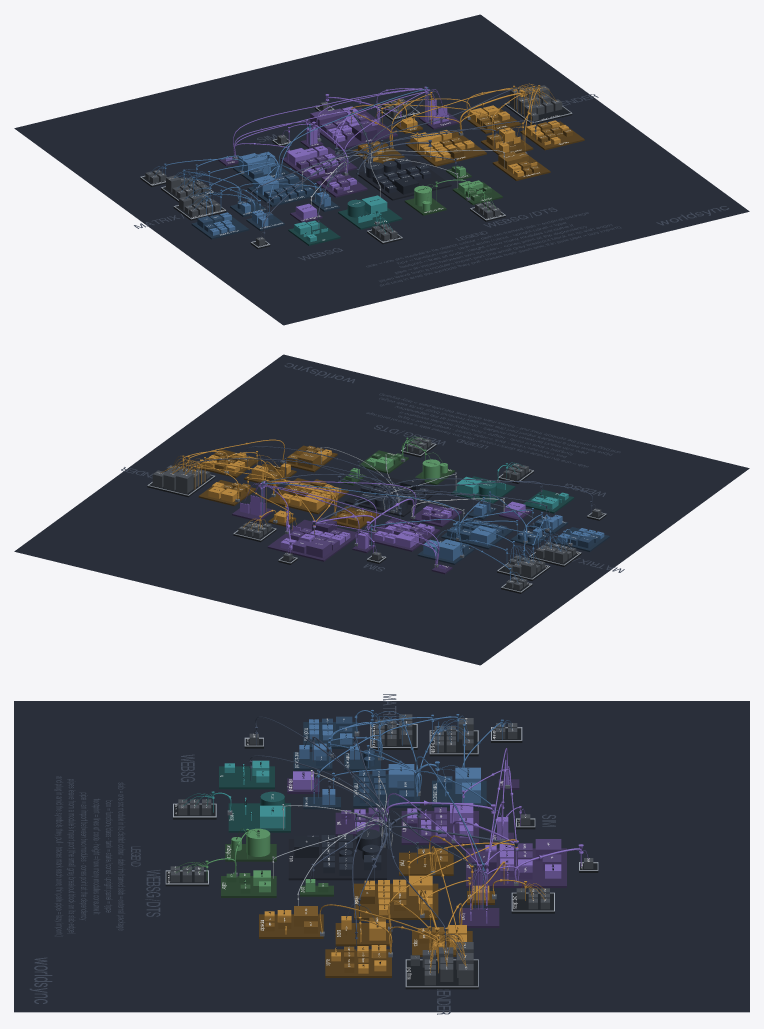
Rendered from arch.glb.
The picture shows the model from 3 angles, top to bottom: view 1: azimuth 30°, elevation 25°; view 2: azimuth 150°, elevation 25°; view 3: azimuth 270°, elevation 25°; orthographic projection. The views are drawn at different scales.
Parts seen in each view (by area): view 1: floor, world, mod_main_slab, mod_sim_slab, mod_render_slab, mod_websg_slab, mod_session_slab; view 2: floor, world, mod_sim_slab, mod_main_slab, mod_render_slab; view 3: floor, world, mod_main_slab, mod_sim_slab, mod_render_slab, mod_session_slab, mod_websg_slab, mod_audio_slab, dep_three_slab, mod_ui_slab, mod_scene_slab, mod_input_slab (+12 smaller).
Boxes of the visible parts, bbox=[...] form: floor: bbox=[14, 14, 749, 325]; world: bbox=[134, 94, 728, 286]; mod_main_slab: bbox=[356, 158, 451, 200]; mod_sim_slab: bbox=[304, 107, 397, 149]; mod_render_slab: bbox=[405, 130, 486, 166]; mod_websg_slab: bbox=[338, 207, 402, 229]; mod_session_slab: bbox=[281, 147, 357, 180]; floor: bbox=[14, 354, 749, 665]; world: bbox=[121, 363, 624, 572]; mod_sim_slab: bbox=[267, 519, 359, 561]; mod_main_slab: bbox=[344, 475, 439, 516]; mod_render_slab: bbox=[266, 478, 348, 514]; floor: bbox=[14, 701, 749, 1012]; world: bbox=[29, 694, 555, 1014]; mod_main_slab: bbox=[288, 839, 386, 880]; mod_sim_slab: bbox=[466, 848, 566, 887]; mod_render_slab: bbox=[354, 883, 438, 919]; mod_session_slab: bbox=[401, 811, 478, 844]; mod_websg_slab: bbox=[228, 803, 290, 832]; mod_audio_slab: bbox=[325, 949, 391, 977]; dep_three_slab: bbox=[405, 960, 478, 989]; mod_ui_slab: bbox=[219, 766, 274, 789]; mod_scene_slab: bbox=[335, 923, 391, 946]; mod_input_slab: bbox=[399, 852, 453, 875].
Bounding box in the file's own units: 56.29 × 4.37 × 54.66.
